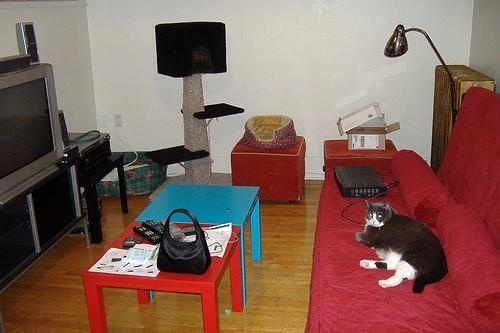cat: (355, 199, 450, 297)
sofa: (305, 84, 500, 333)
tvmonitor: (1, 63, 69, 208)
